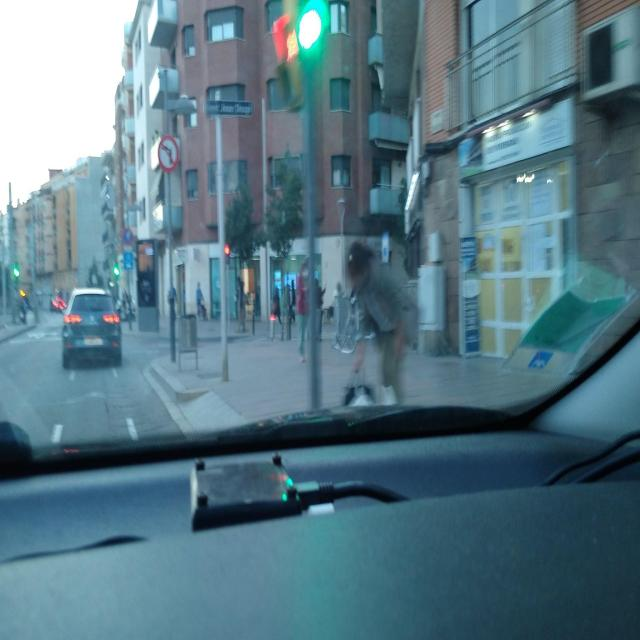forb_stopping: (121, 228, 135, 246)
